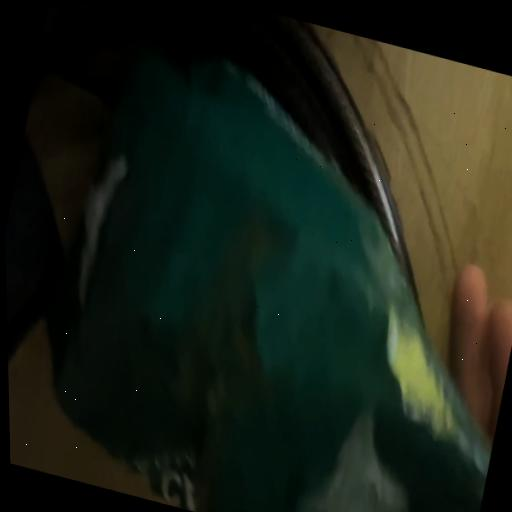cafe_xay: (48, 46, 491, 512)
